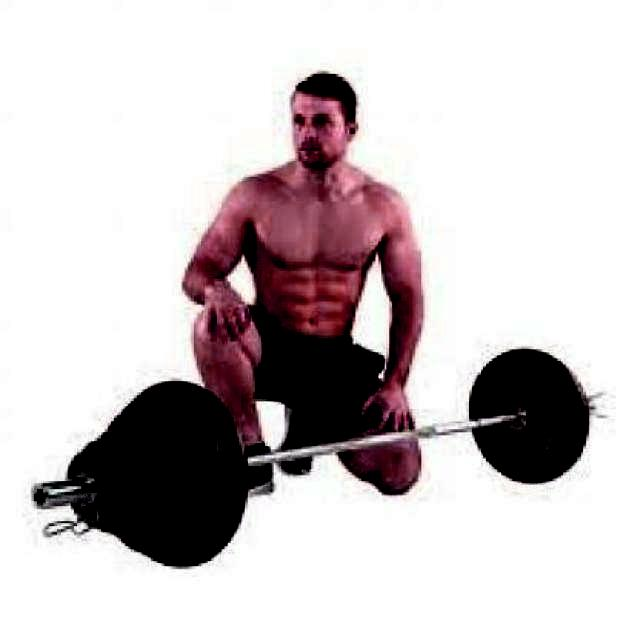barbell: (32, 379, 247, 575)
